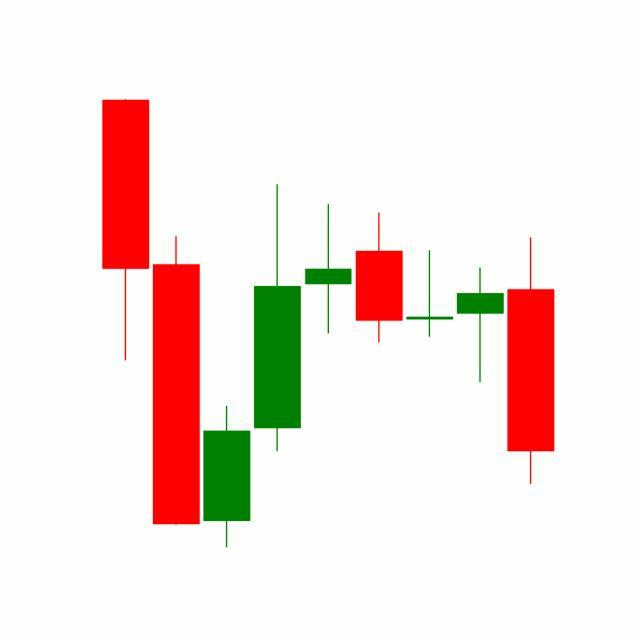Hikkake Pattern: (252, 181, 506, 455)
